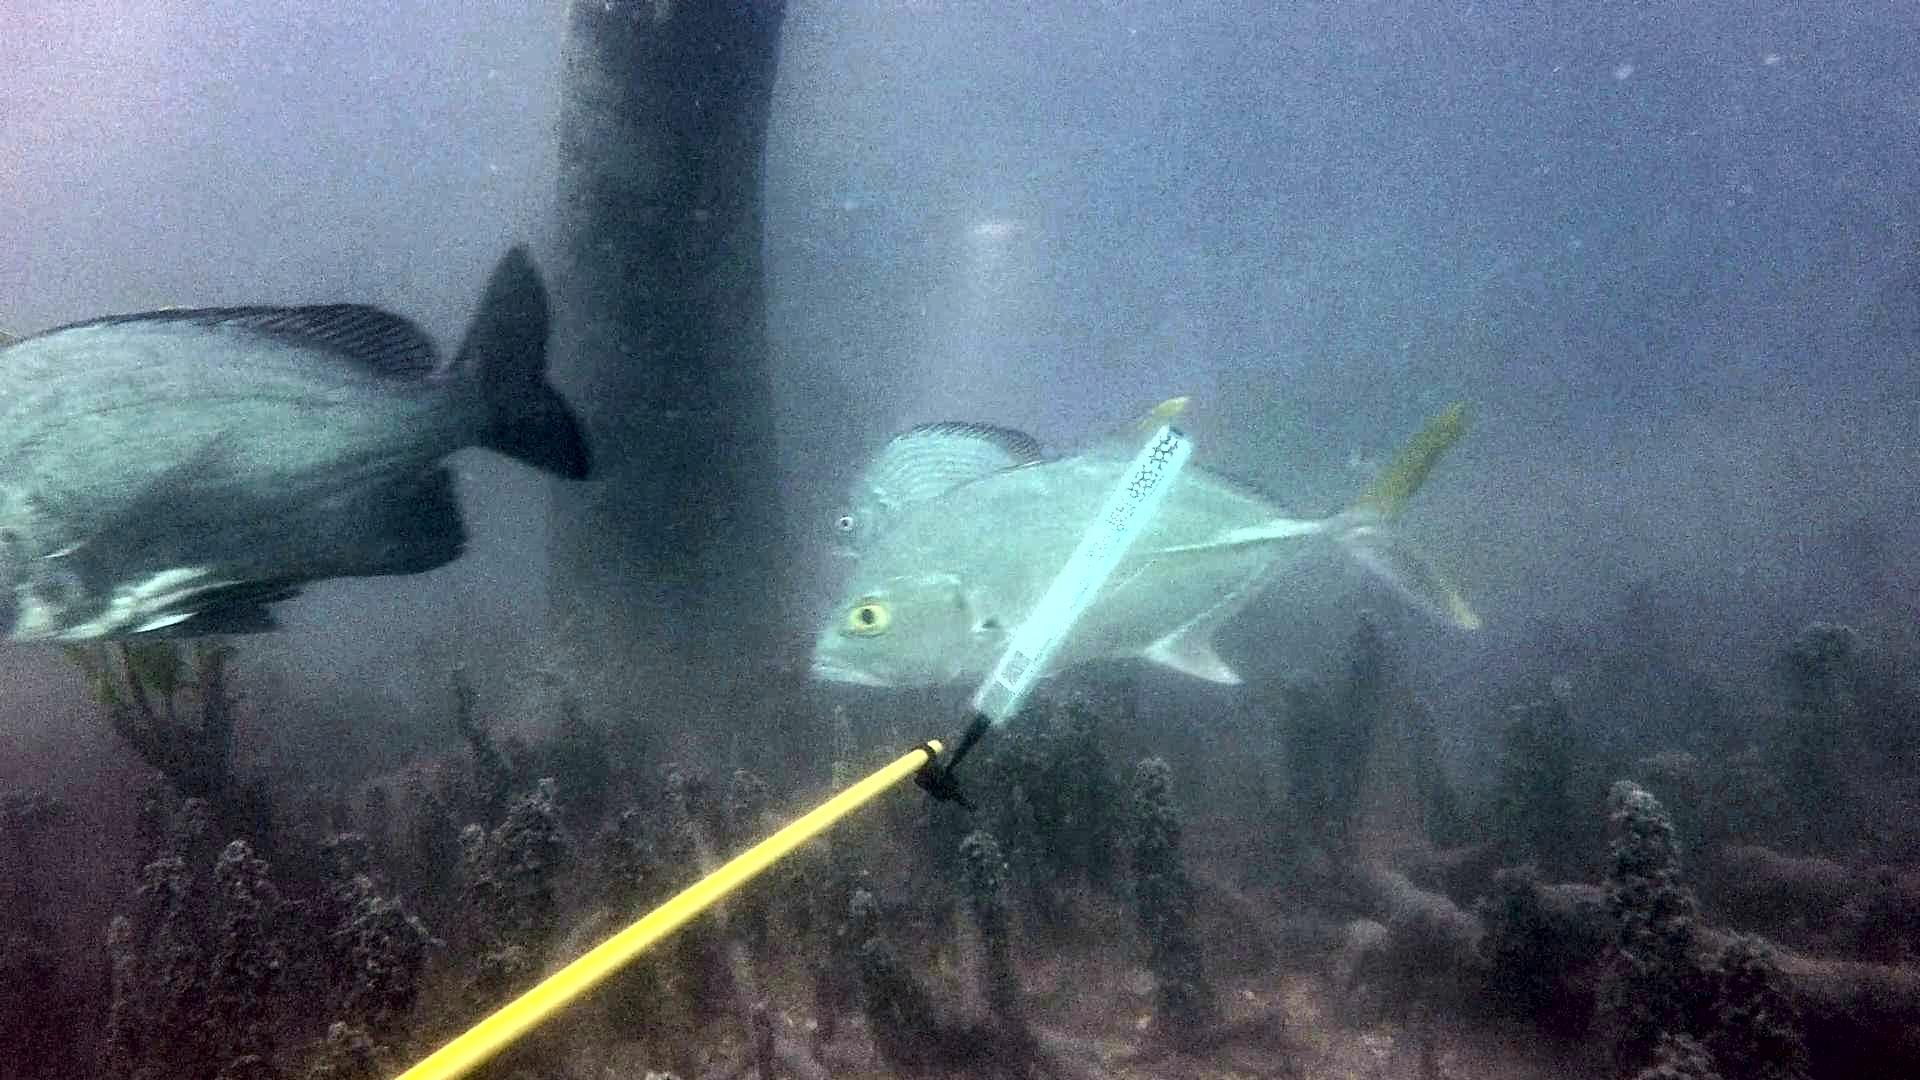acanthopagrus palmaris: (0, 229, 616, 655), (820, 406, 1069, 570)
caranx: (795, 381, 1505, 704)
